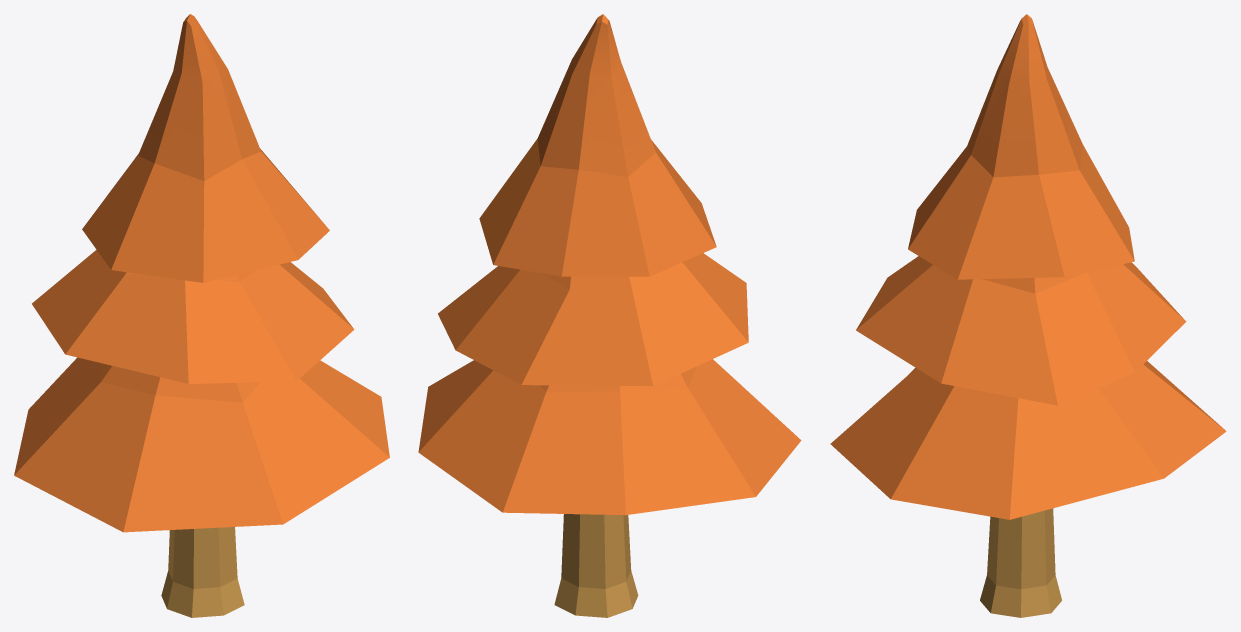
File: Pine_Trees_Pack_Tree_stem_01.020.fbx
3 renders of one model, left to right at view 1: azimuth 30°, elevation 25°; view 2: azimuth 150°, elevation 25°; view 3: azimuth 270°, elevation 25°, orthographic.
Parts seen in each view (by area): view 1: Pine_Trees_Pack_Tree_stem_01.020; view 2: Pine_Trees_Pack_Tree_stem_01.020; view 3: Pine_Trees_Pack_Tree_stem_01.020.
Boxes of the visible parts, x1=… form: Pine_Trees_Pack_Tree_stem_01.020: x1=14, y1=14, x2=389, y2=617; Pine_Trees_Pack_Tree_stem_01.020: x1=418, y1=14, x2=801, y2=617; Pine_Trees_Pack_Tree_stem_01.020: x1=830, y1=14, x2=1226, y2=617.
Bounding box in the file's own units: 180 × 290 × 179.
